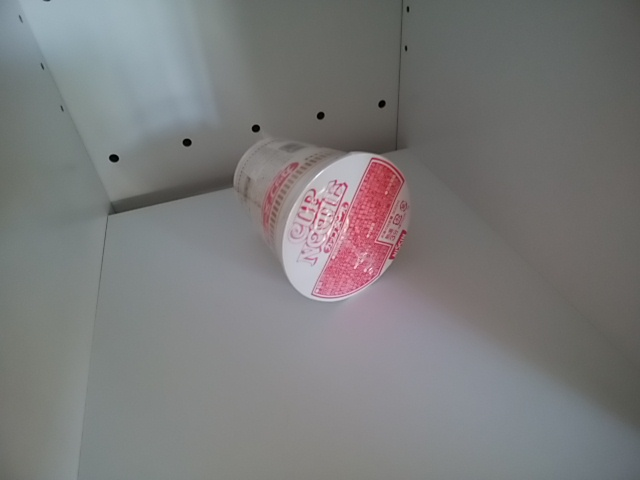cup-ramen: (222, 128, 413, 306)
